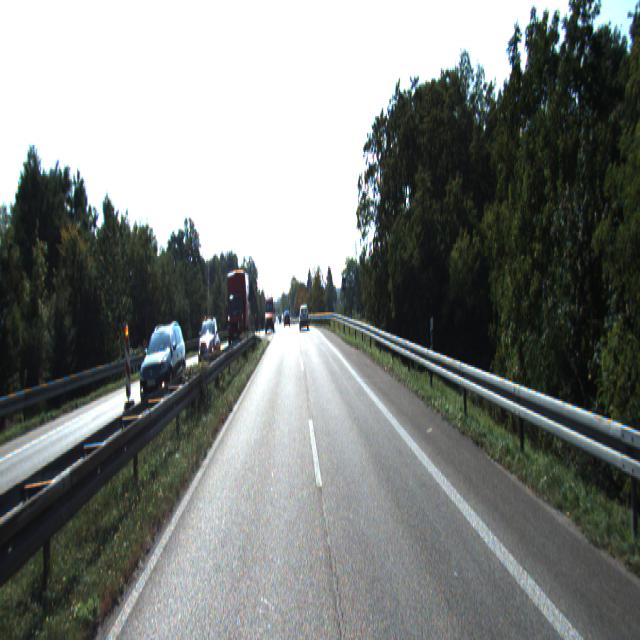Car: (138, 323, 188, 414), (224, 270, 252, 352), (197, 314, 220, 370), (300, 308, 308, 332)
